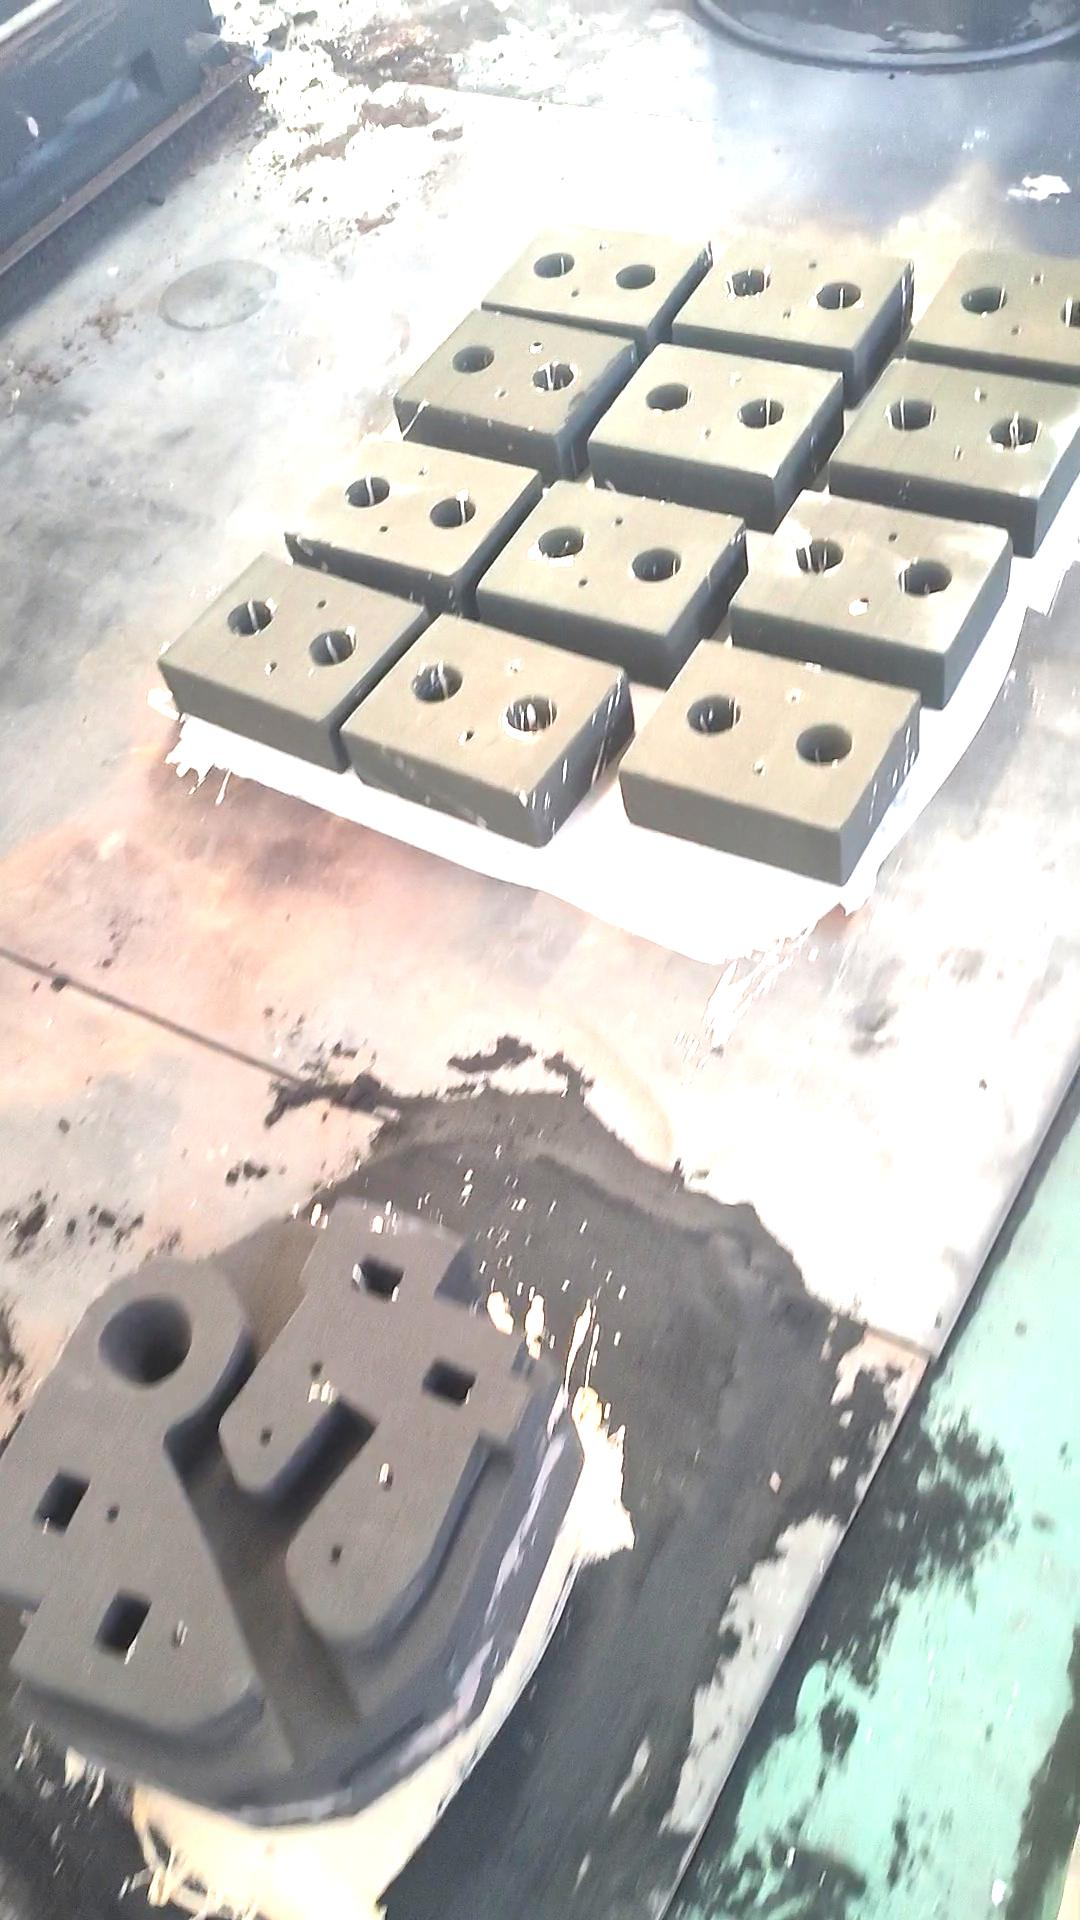pouring hole: (98, 1291, 195, 1391), (794, 721, 855, 764), (410, 662, 464, 704), (688, 694, 741, 735), (897, 558, 951, 597), (506, 694, 558, 733), (988, 415, 1042, 450), (632, 546, 682, 583), (225, 599, 273, 637), (306, 628, 355, 665), (794, 537, 844, 572), (887, 397, 938, 431), (736, 396, 785, 429), (429, 495, 476, 527), (541, 524, 584, 558), (344, 476, 390, 508), (531, 360, 578, 392), (645, 382, 692, 411), (448, 344, 495, 373), (960, 285, 1007, 313), (814, 282, 862, 309), (727, 269, 771, 297), (531, 251, 574, 280), (615, 262, 655, 287), (1059, 299, 1080, 327)
